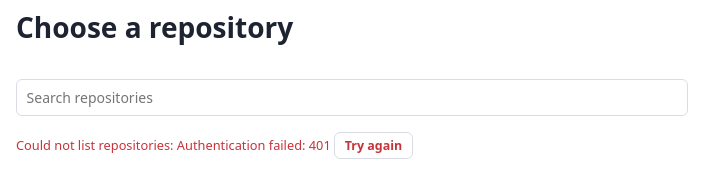
RepositoryPicker › shows errors and retries
Expected: the message "Could not list repositories: Authentication failed: 401 Try again" is shown, [16,132,413,159]
Click the button "Try again": [373, 145] box [334,132,413,159]
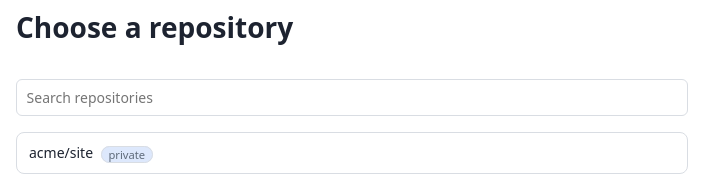
Now the button "acme/siteprivate" is shown, box [16,132,688,174]
Now the message "Could not list repositories: Authentication failed: 401 Try again" is gone
